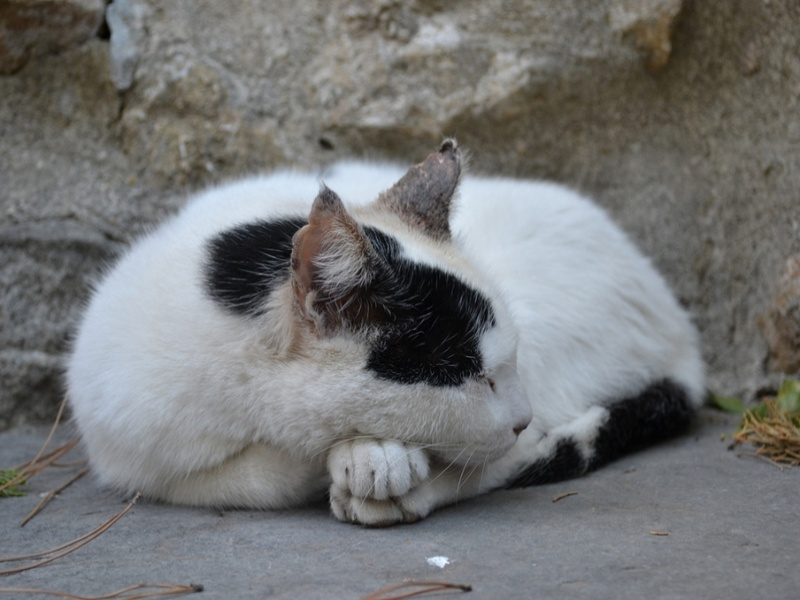cat: (58, 132, 711, 536)
